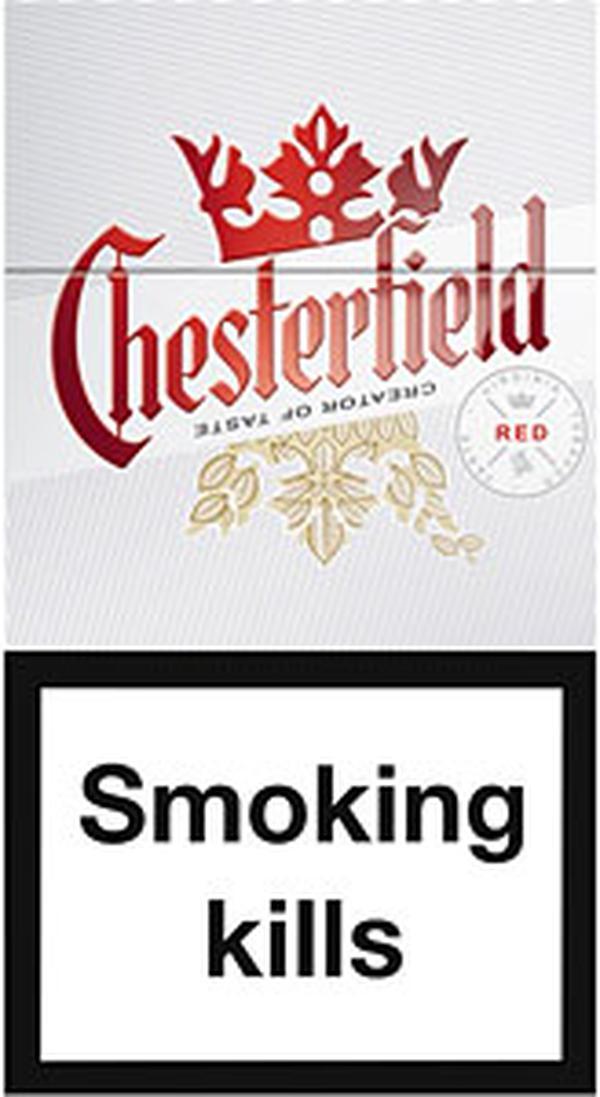chesterfield_red: (7, 1, 597, 1097)
